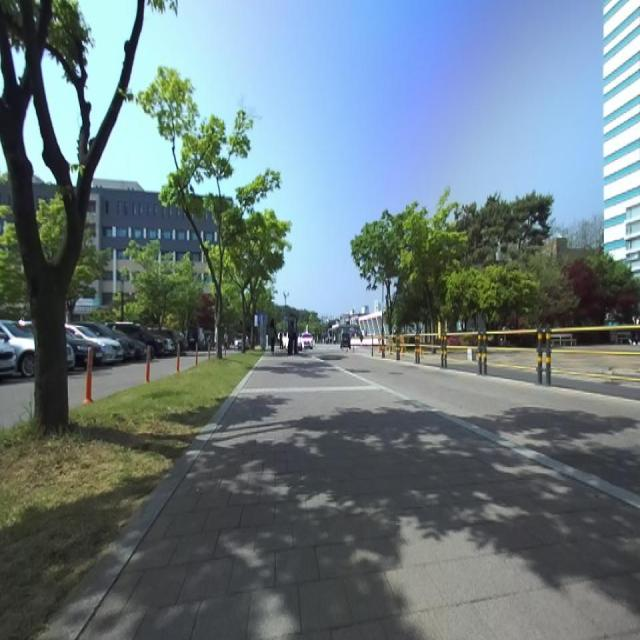sidewalk: (82, 356, 640, 639), (40, 357, 262, 640)
